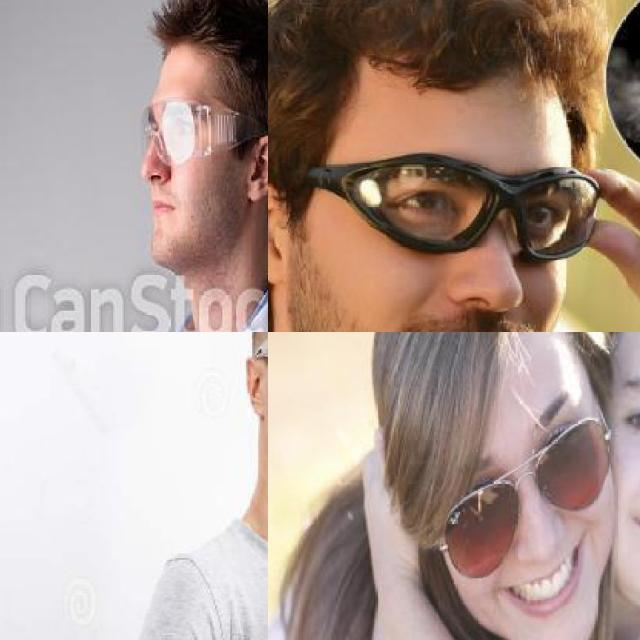No_Ear-Protection: (268, 162, 298, 289), (244, 128, 268, 209), (241, 357, 268, 420)
face_nomask: (358, 169, 594, 332), (439, 416, 607, 619), (133, 105, 205, 231), (613, 387, 640, 564)
glasses: (297, 150, 601, 268), (427, 403, 615, 568), (132, 94, 268, 171)
hand_noglove: (352, 433, 430, 567)
head_nohelmet: (268, 0, 581, 138), (383, 332, 579, 391), (131, 0, 268, 71)
person: (87, 0, 268, 332), (125, 332, 268, 640)
